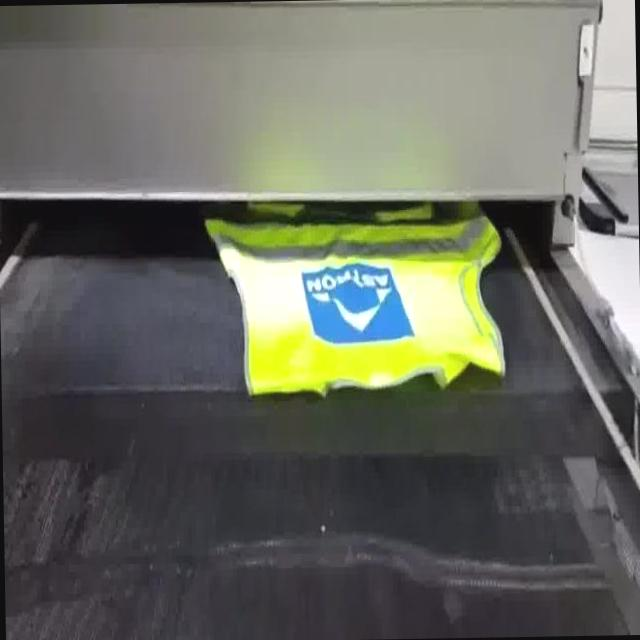vest: (203, 205, 508, 404)
